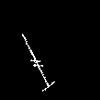treble_crochet: (22, 34, 53, 90)
